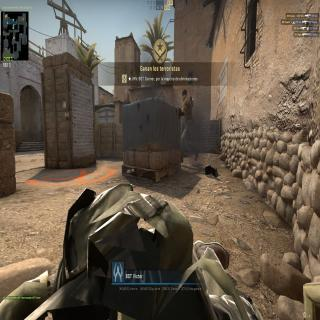T-Head: (182, 89, 188, 101)
